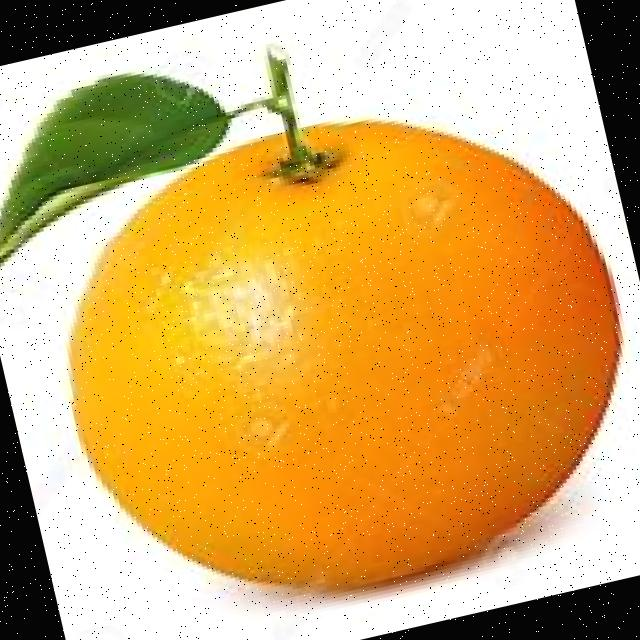orange: (15, 59, 640, 640)
